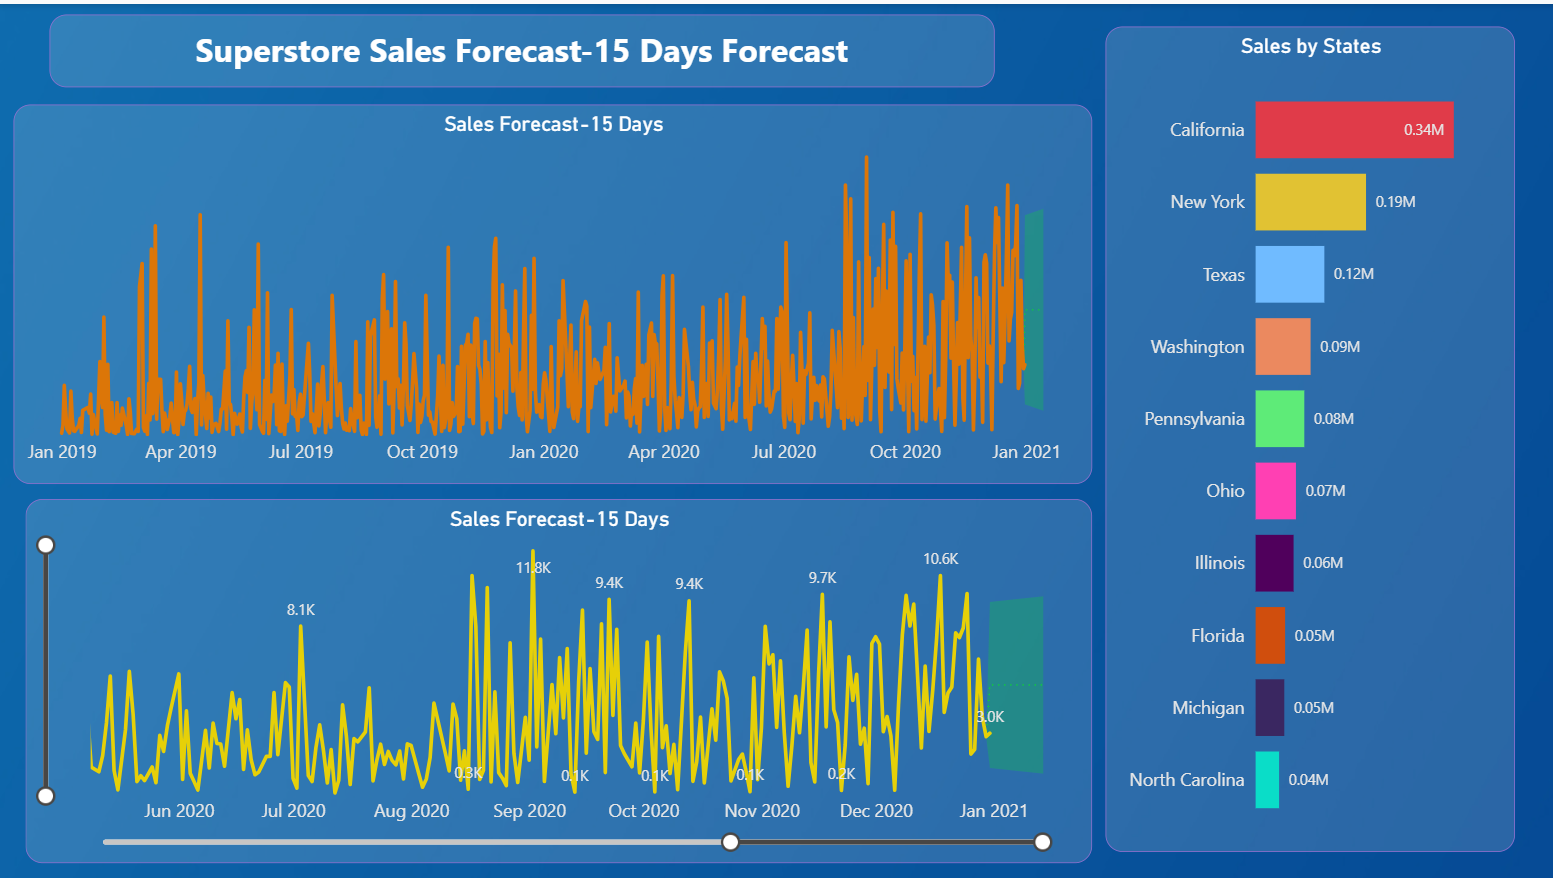

Layout of this report page (visuals, bound fields, positions):
{"tool":"powerbi","page":{"name":"Sales Forecast","canvas":[1280,720],"ordinal":1},"visuals":[{"type":"lineChart","title":"Sales Forecast-15 Days","fields":{"Y":["Sum(SuperStore Sales DataSet by me.Sales)"],"Category":["SuperStore Sales DataSet by me.Order Date"]},"box":[11.2,82.5,888.8,312.5],"z":0},{"type":"lineChart","title":"Sales Forecast-15 Days","fields":{"Y":["Sum(SuperStore Sales DataSet by me.Sales)"],"Category":["SuperStore Sales DataSet by me.Order Date"]},"box":[21.2,407.5,878.8,300],"z":1000},{"type":"clusteredBarChart","title":" Sales by States","fields":{"Category":["SuperStore Sales DataSet by me.State"],"Y":["Sum(SuperStore Sales DataSet by me.Sales)"]},"box":[911.2,18.8,337.5,680],"z":2000},{"type":"textbox","box":[41.2,8.8,778.8,60],"z":3000}]}

Visuals, with their boxes in screenshot pixels (x1, y1, x2, y2), scaled from the page's 1280x720 canvas onto the 1553x878 screenshot:
"Sales Forecast-15 Days" lineChart: {"left": 14, "top": 101, "right": 1092, "bottom": 482}
"Sales Forecast-15 Days" lineChart: {"left": 26, "top": 497, "right": 1092, "bottom": 863}
" Sales by States" clusteredBarChart: {"left": 1106, "top": 23, "right": 1515, "bottom": 852}
textbox: {"left": 50, "top": 11, "right": 995, "bottom": 84}
